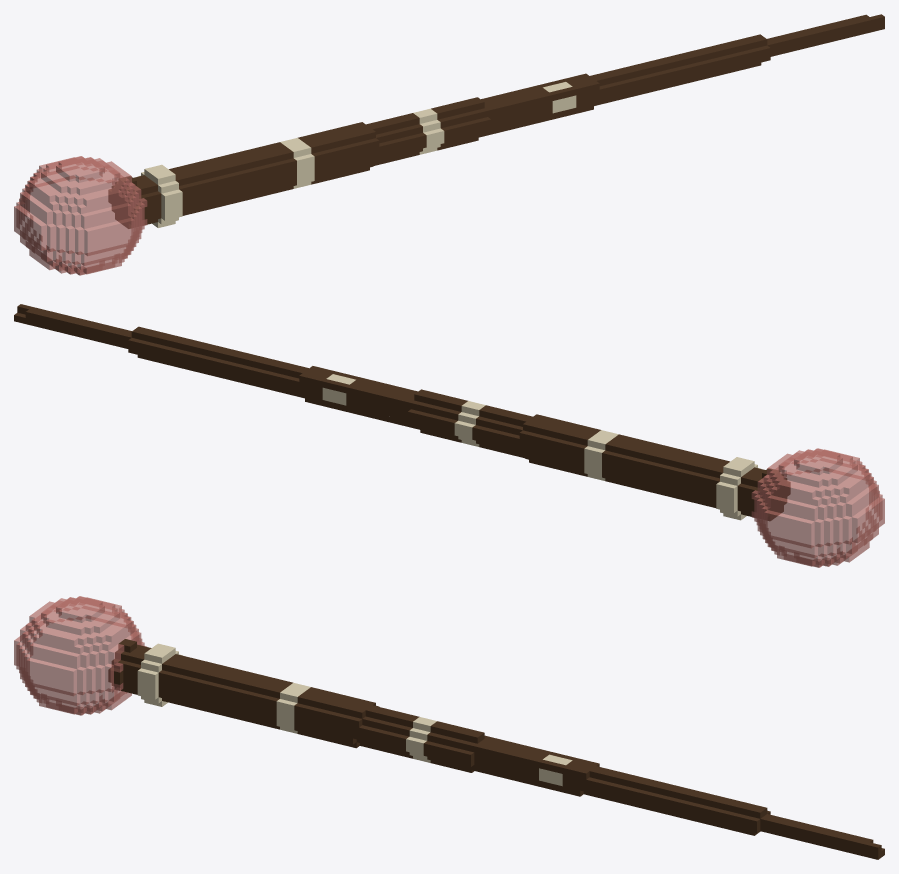
The model's file is stirge_proboscis.glb.
3 renders of one model, top to bottom at view 1: azimuth 30°, elevation 25°; view 2: azimuth 150°, elevation 25°; view 3: azimuth 330°, elevation 25°, orthographic.
Parts seen in each view (by area): view 1: stirge_proboscis:compound; view 2: stirge_proboscis:compound; view 3: stirge_proboscis:compound.
Boxes of the visible parts, left/top/right/bottom form: stirge_proboscis:compound: left=14, top=14, right=884, bottom=275; stirge_proboscis:compound: left=14, top=304, right=884, bottom=567; stirge_proboscis:compound: left=14, top=596, right=884, bottom=859.
Size of the model in its own units: 0.29 by 0.032 by 0.036.
